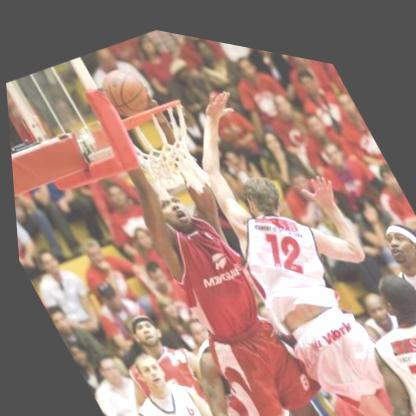basketball: (94, 52, 157, 122)
rim: (114, 80, 187, 137)
